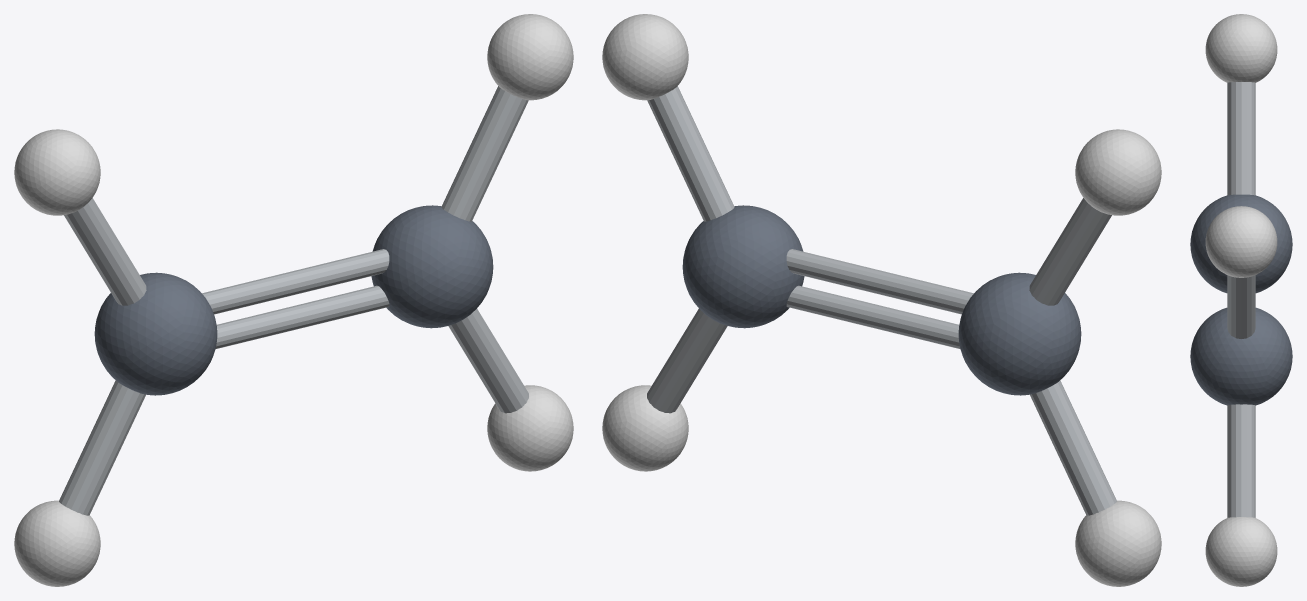
Rendered from eteno_C2H4.glb.
3 renders of one model, left to right at view 1: azimuth 30°, elevation 25°; view 2: azimuth 150°, elevation 25°; view 3: azimuth 270°, elevation 25°, orthographic. The views are drawn at different scales.
Parts seen in each view (by area): view 1: C_1, C_0, H_2, H_4, H_3, H_5, bond_1_4_0, bond_0_3_0, bond_0_1_0, bond_0_1_1, bond_0_2_0, bond_1_5_0; view 2: C_1, C_0, H_2, H_4, H_3, H_5, bond_1_4_0, bond_0_3_0, bond_0_1_0, bond_0_1_1, bond_0_2_0, bond_1_5_0; view 3: C_1, H_4, H_5, H_2, C_0, bond_1_5_0, bond_0_2_0, bond_1_4_0.
Part boxes in pixels (left/top/right/bottom): C_1: left=371, top=205, right=493, bottom=328; C_0: left=94, top=272, right=217, bottom=395; H_2: left=14, top=129, right=100, bottom=215; H_4: left=487, top=14, right=573, bottom=100; H_3: left=14, top=500, right=100, bottom=586; H_5: left=487, top=385, right=573, bottom=471; bond_1_4_0: left=441, top=86, right=528, bottom=221; bond_0_3_0: left=59, top=380, right=145, bottom=515; bond_0_1_0: left=202, top=249, right=389, bottom=314; bond_0_1_1: left=215, top=285, right=389, bottom=348; bond_0_2_0: left=64, top=198, right=146, bottom=305; bond_1_5_0: left=448, top=309, right=528, bottom=413; C_1: left=682, top=205, right=804, bottom=328; C_0: left=958, top=272, right=1081, bottom=395; H_2: left=1075, top=129, right=1161, bottom=215; H_4: left=602, top=14, right=688, bottom=100; H_3: left=1075, top=500, right=1161, bottom=586; H_5: left=602, top=385, right=688, bottom=471; bond_1_4_0: left=647, top=86, right=734, bottom=221; bond_0_3_0: left=1030, top=380, right=1116, bottom=515; bond_0_1_0: left=786, top=249, right=973, bottom=314; bond_0_1_1: left=786, top=285, right=960, bottom=348; bond_0_2_0: left=1029, top=198, right=1111, bottom=305; bond_1_5_0: left=647, top=309, right=727, bottom=413; C_1: left=1190, top=307, right=1292, bottom=405; H_4: left=1205, top=206, right=1277, bottom=277; H_5: left=1205, top=517, right=1277, bottom=586; H_2: left=1205, top=14, right=1277, bottom=82; C_0: left=1190, top=194, right=1292, bottom=293; bond_1_5_0: left=1227, top=404, right=1255, bottom=517; bond_0_2_0: left=1227, top=82, right=1255, bottom=195; bond_1_4_0: left=1227, top=275, right=1255, bottom=338.
Bounding box in the file's own units: 2.78 × 2.18 × 0.54.
